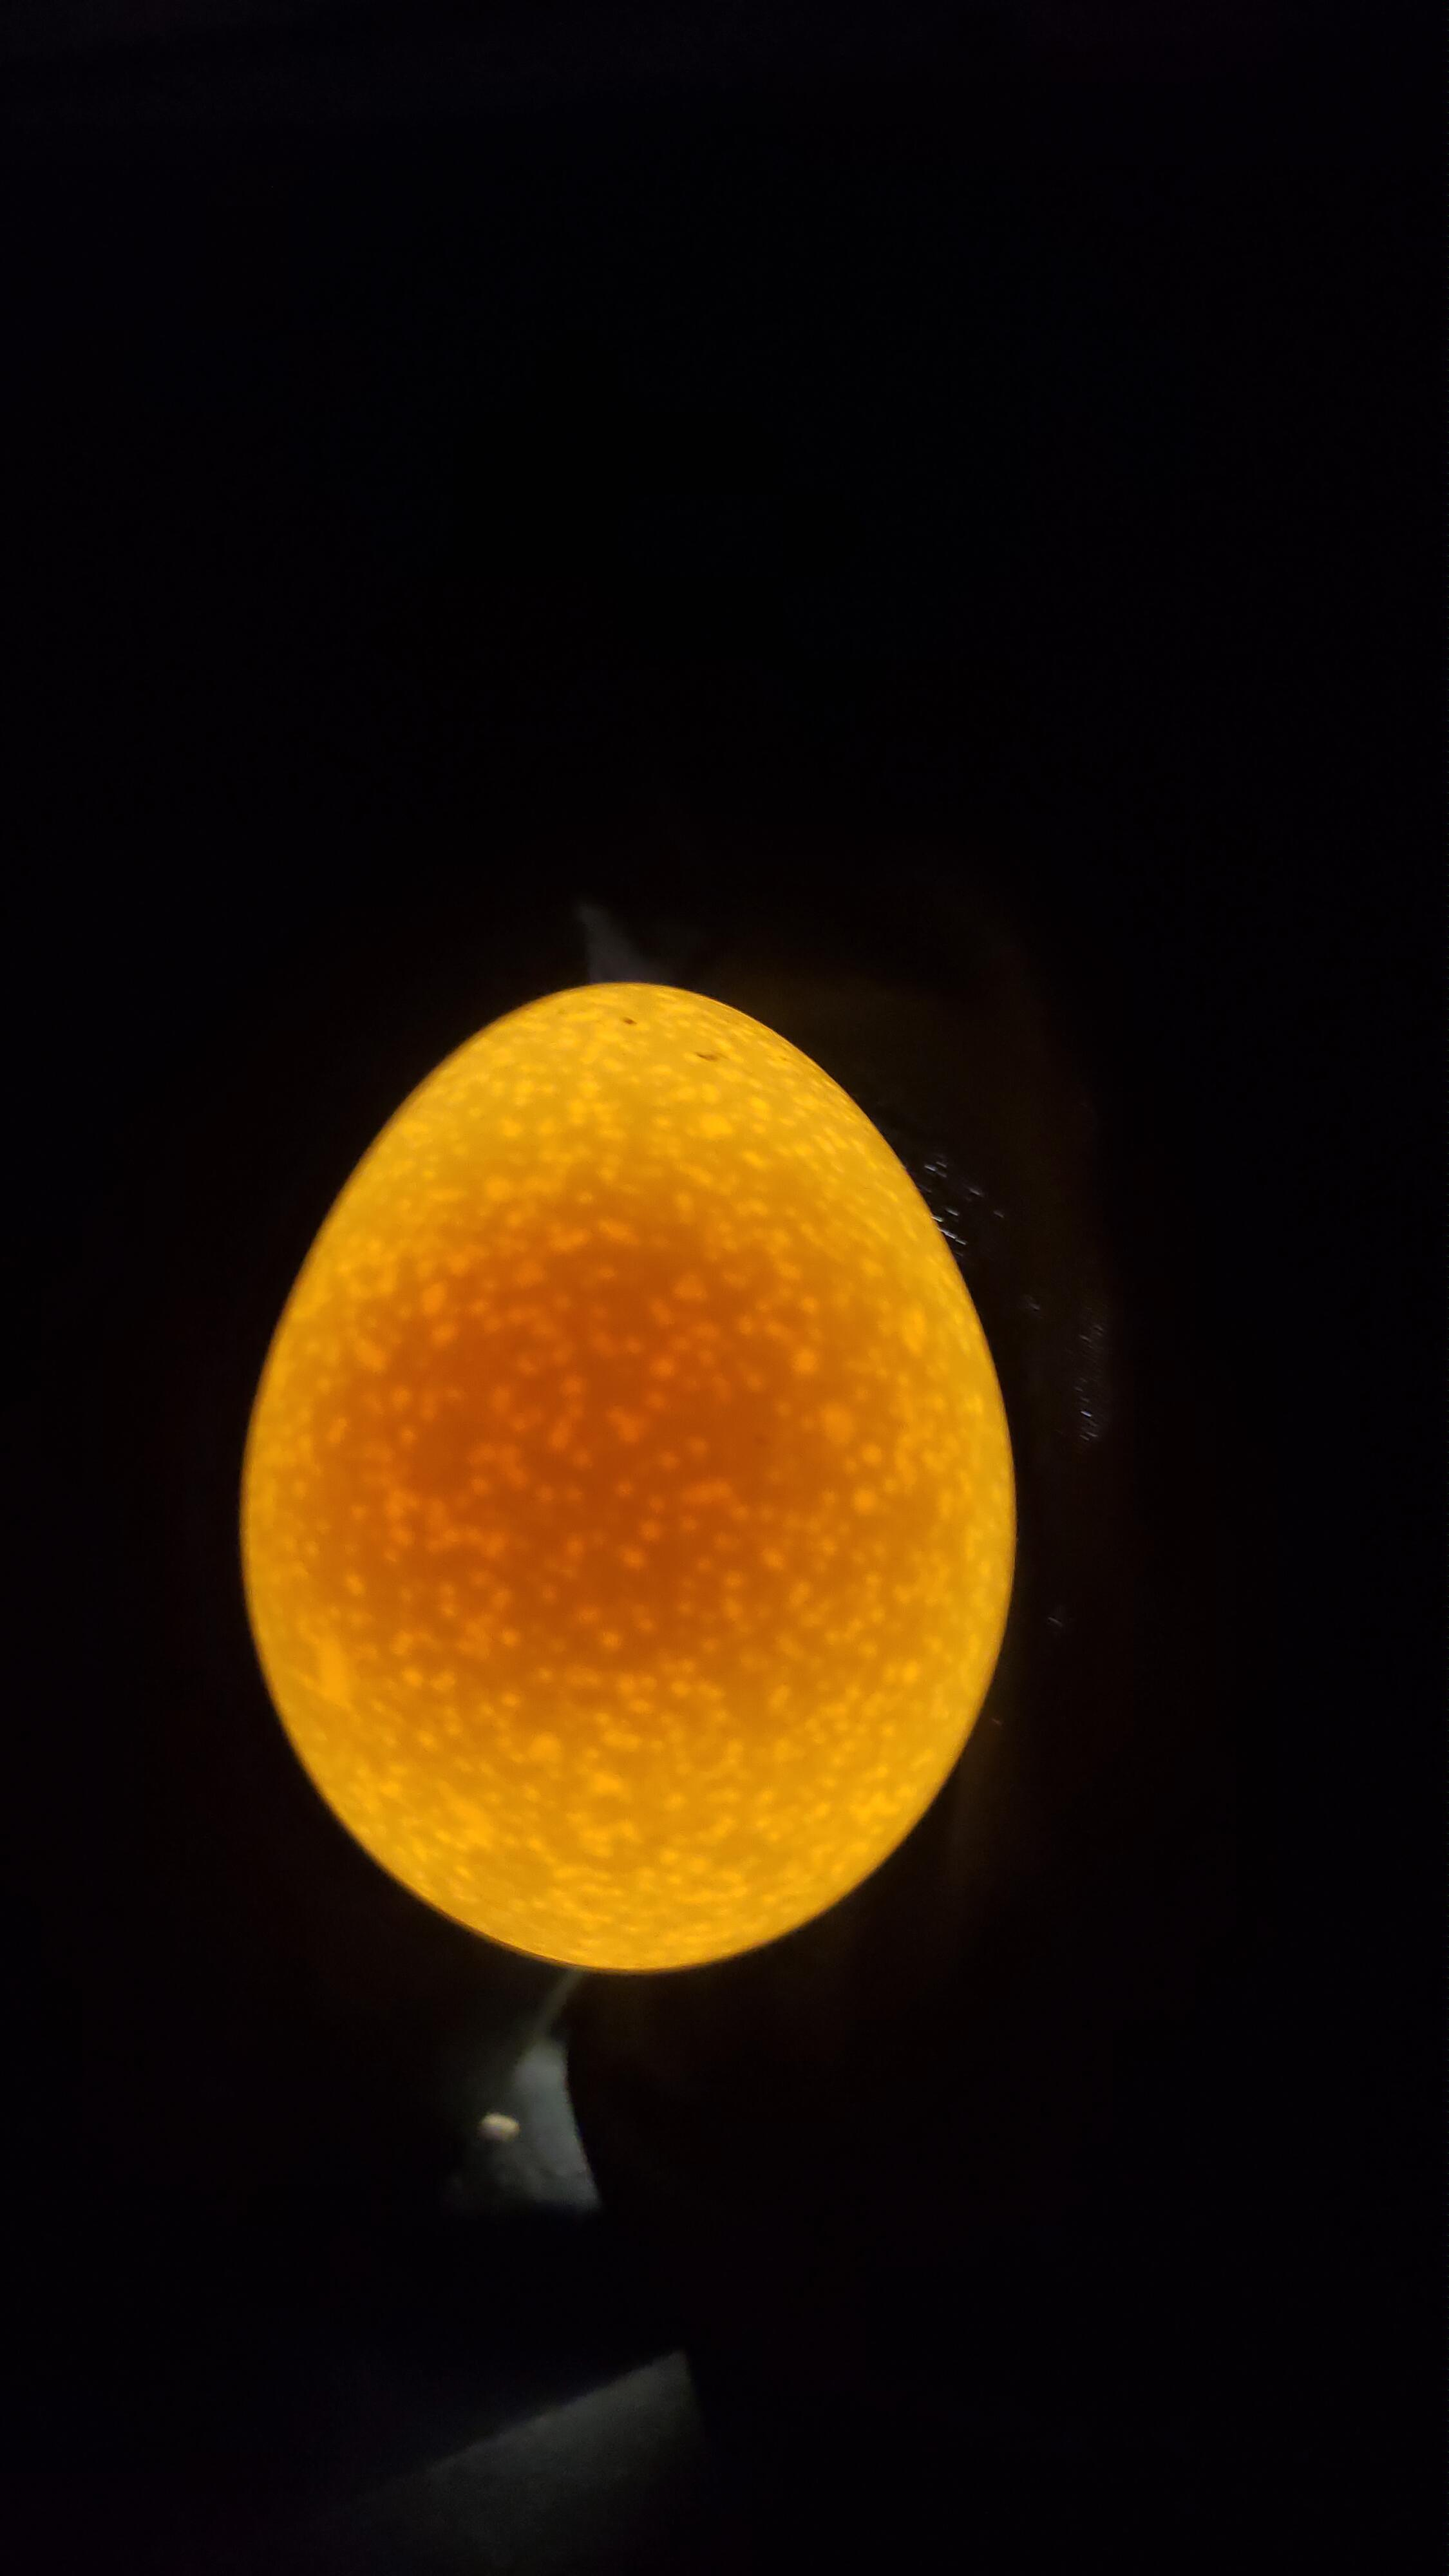A - Good: (173, 954, 1100, 2022)
